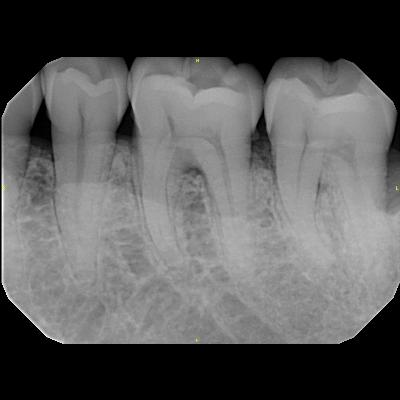tooth: (43, 56, 129, 290)
